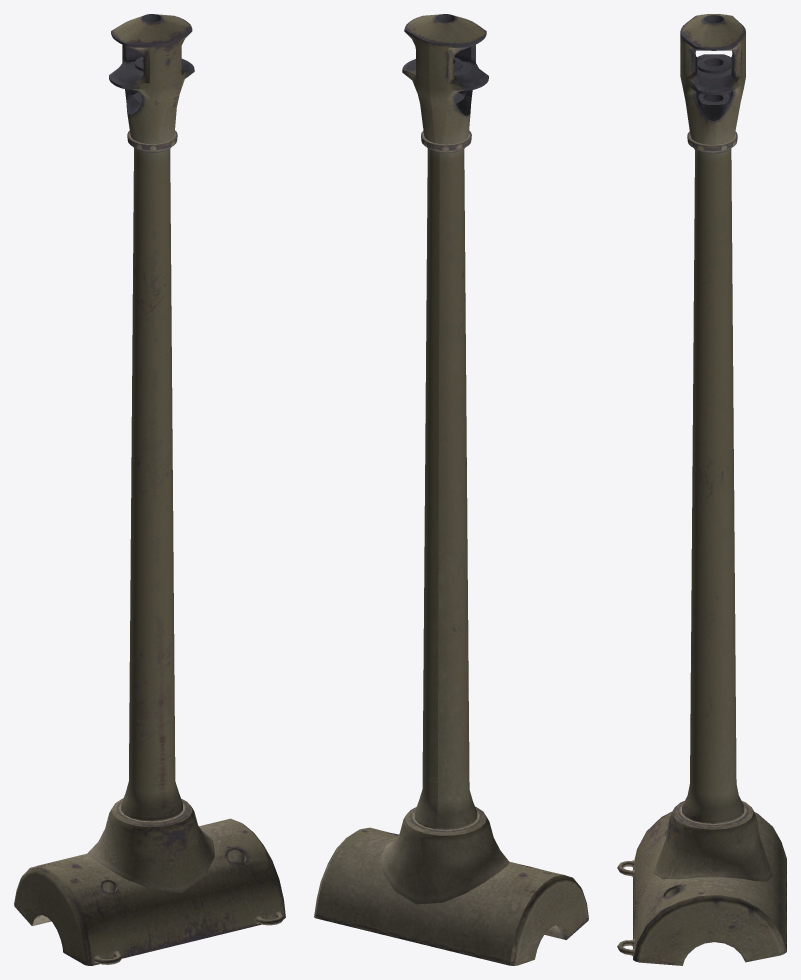
Rendered from Gun_01.glb.
The picture shows the model from 3 angles, left to right: view 1: azimuth 30°, elevation 25°; view 2: azimuth 150°, elevation 25°; view 3: azimuth 270°, elevation 25°; orthographic projection.
Visible parts, largest first — view 1: set_0_group_0; view 2: set_0_group_0; view 3: set_0_group_0.
Part boxes in pixels (<box>): set_0_group_0: <box>14,14,285,965</box>; set_0_group_0: <box>314,14,588,965</box>; set_0_group_0: <box>617,14,786,965</box>.
Bounding box in the file's own units: 1.25 × 5.35 × 0.9153.
1 material, 1 textured.
